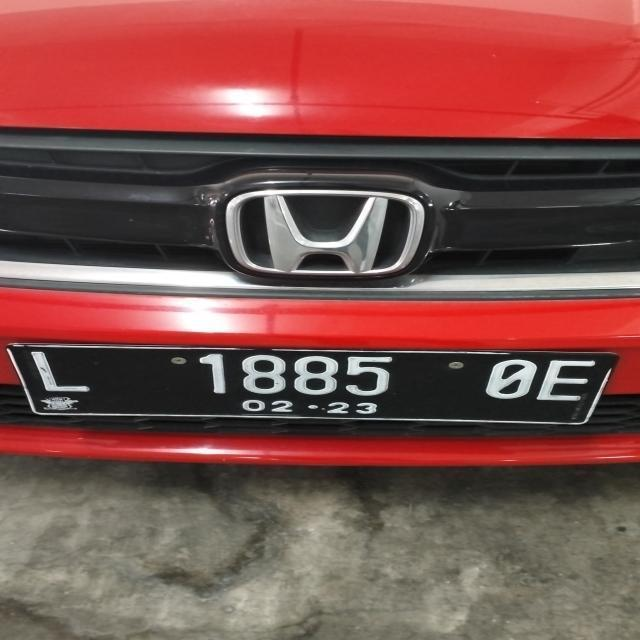1: (189, 350, 239, 402)
5: (343, 354, 402, 401)
8: (291, 354, 341, 399), (242, 353, 288, 393)
E: (540, 358, 597, 406)
L: (12, 348, 105, 396)
O: (484, 360, 540, 400)
